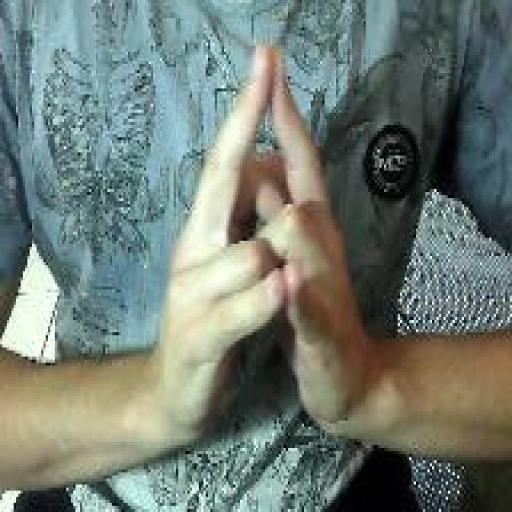Tori -bird-: (151, 44, 375, 450)
